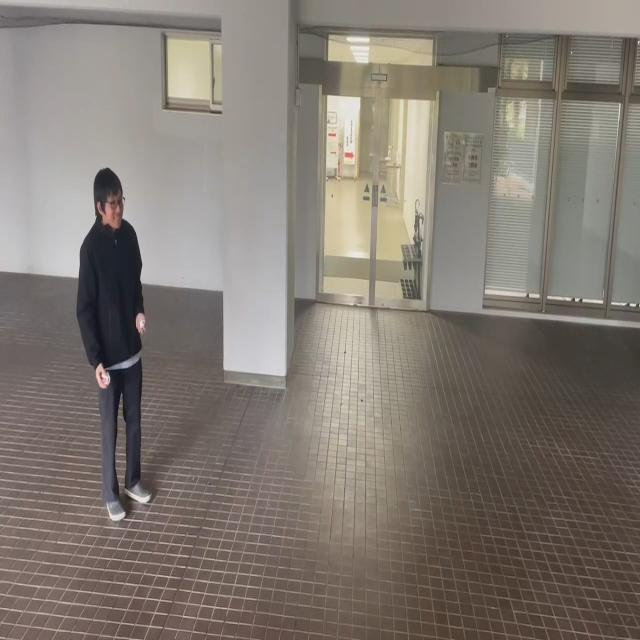paper: (102, 371, 110, 385), (140, 318, 144, 329)
